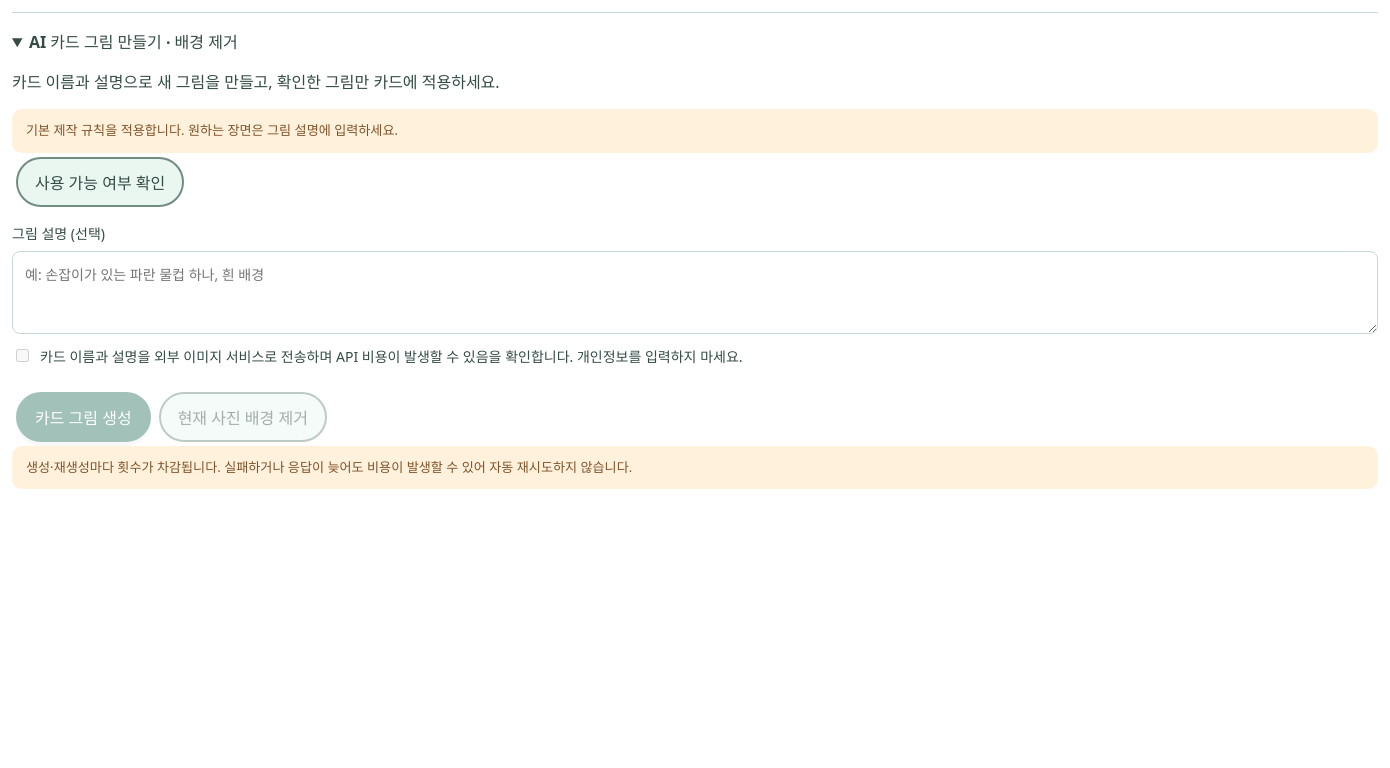
Scenario: blocks generation when the shared daily quota is exhausted
This screenshot has width=1390, height=768.
Later steps or results of the test are not shown.
Click the button "사용 가능 여부 확인".
click(100, 182)  # box x1=16 y1=157 x2=184 y2=207
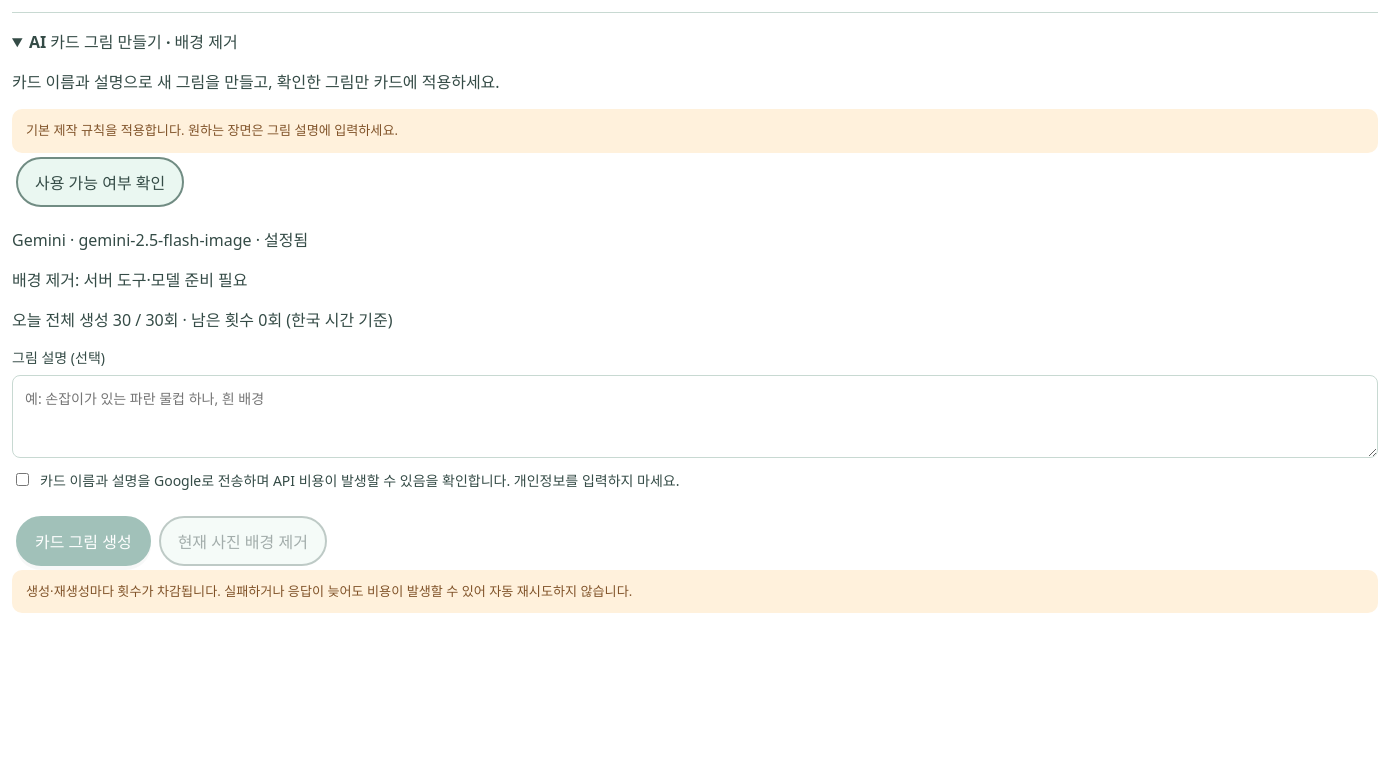
Now the text "오늘 전체 생성 30 / 30회 · 남은 횟수 0회 (한국 시간 기준)" is shown, box x1=12 y1=309 x2=392 y2=331
